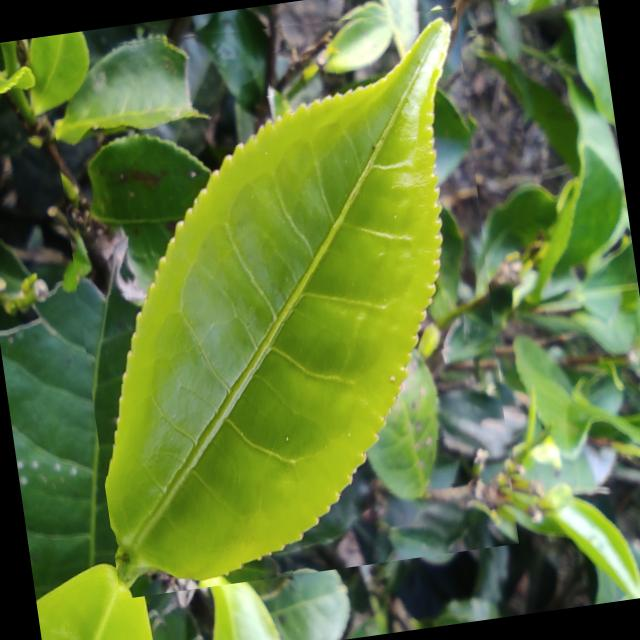Category B(2-4 days): (44, 0, 531, 599)
